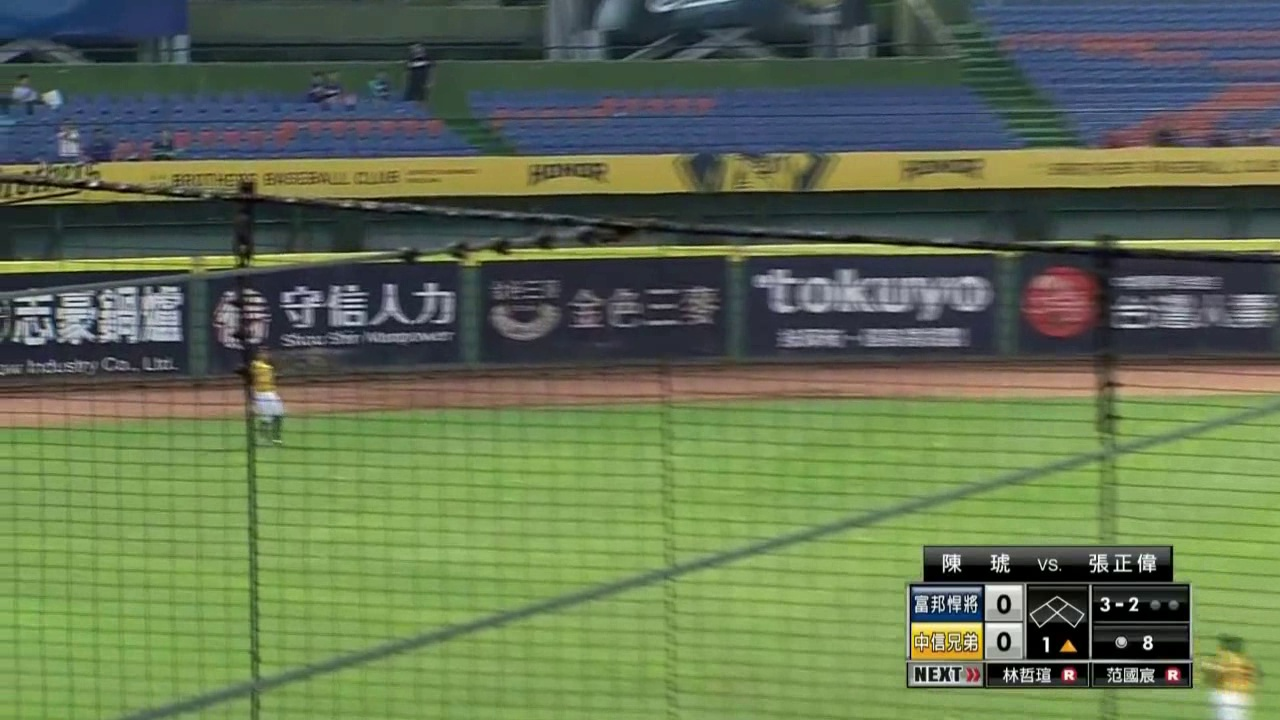base: (1026, 591, 1089, 633)
out: (1144, 592, 1182, 614)
score1: (987, 591, 1023, 621)
score2: (988, 628, 1024, 658)
session: (1027, 626, 1086, 659)
strikeball: (1095, 590, 1143, 619)
total: (1111, 630, 1159, 656)
